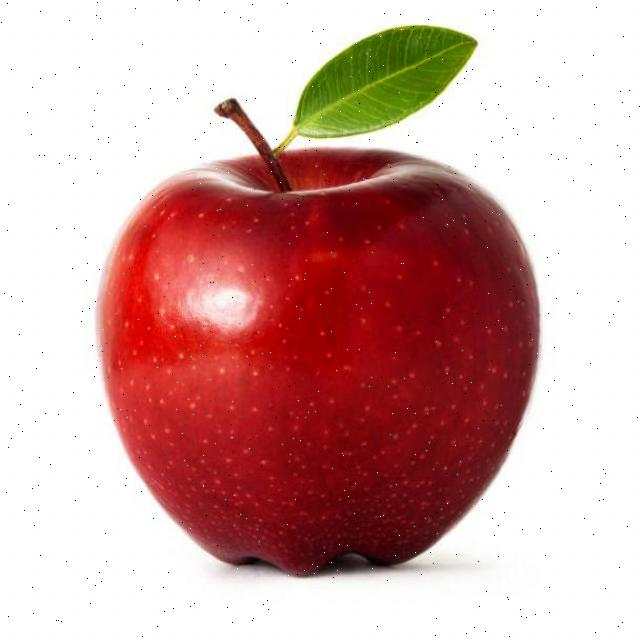HEALTHY: (79, 110, 570, 572)
